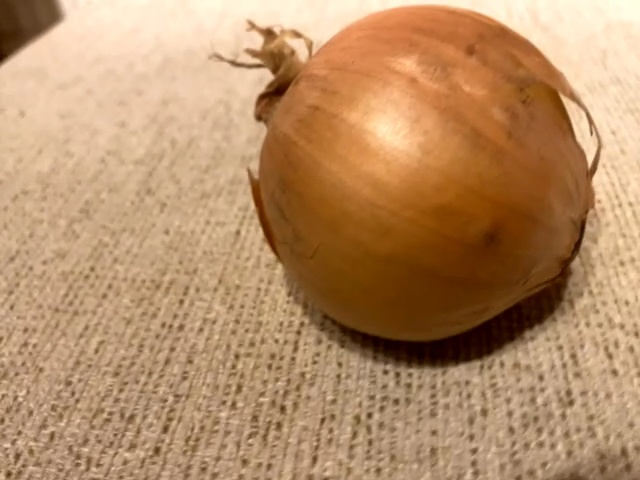onion: (209, 4, 601, 347)
